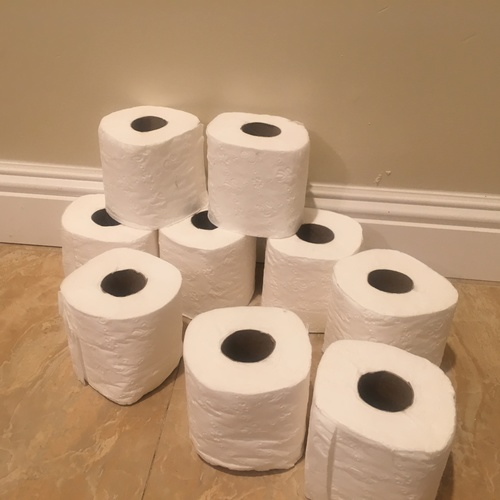roll: (301, 339, 458, 500), (181, 304, 312, 474), (58, 248, 183, 407), (322, 248, 460, 370), (95, 104, 206, 232), (204, 111, 310, 240), (259, 208, 363, 334), (158, 197, 257, 320), (60, 192, 160, 281)
